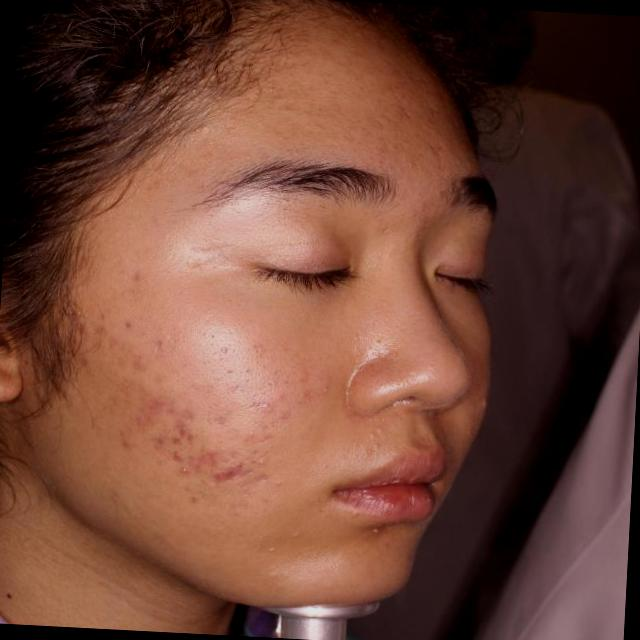acne: (65, 312, 104, 344), (136, 392, 168, 419), (168, 414, 194, 444), (212, 462, 238, 486), (116, 426, 141, 449), (192, 445, 222, 463), (166, 446, 189, 467), (160, 448, 176, 460)
